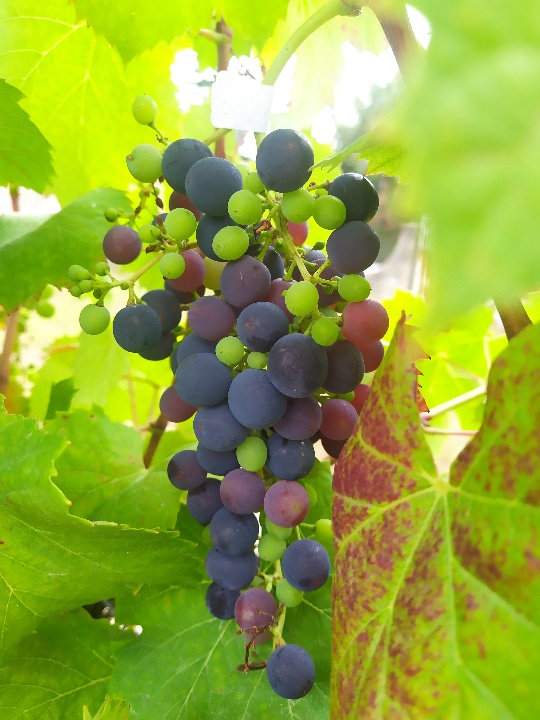grape: (64, 92, 389, 705)
